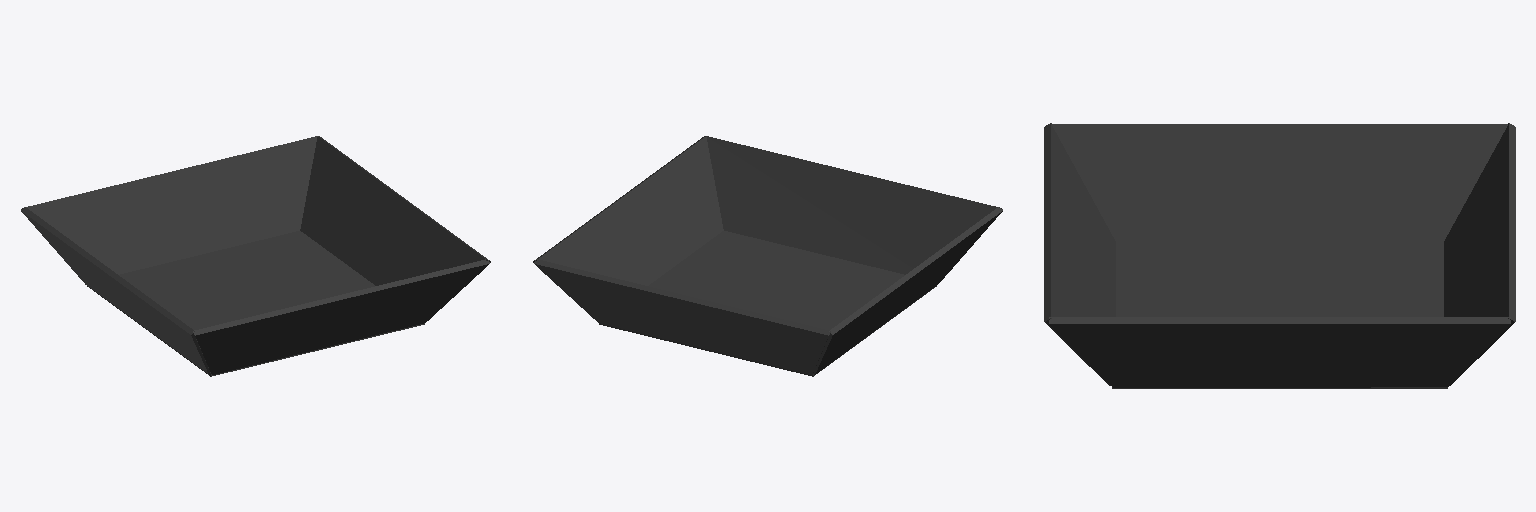
URDF robot description (tabletop):
<?xml version="0.0" ?>
<robot name="tabletop">
  <link name="base_link">
    <inertial>
      <origin rpy="0 0 0" xyz="0 0 0"/>
      <mass value="0"/>
      <inertia ixx="0" ixy="0" ixz="0" iyy="0" iyz="0" izz="0"/>
    </inertial>
    <visual>
      <origin rpy="0 0 0" xyz="0 0 0"/>
      <geometry>
        <mesh filename="tray_textured.obj" scale="0.5 0.5 0.5"/>
      </geometry>
      <material name="tray_material">
        <color rgba="0.282352 0.282352 0.282352 1"/>
      </material>
    </visual>
     <collision>
      <origin rpy="0 0 0" xyz="0 0 0.005"/>
      <geometry>
	 			<box size=".6 .6 .02"/>
      </geometry>
    </collision>
     <collision>
      <origin rpy="0 0.575469961 0" xyz="0.25 0 0.059"/>
      <geometry>
	 			<box size=".02 .6 .15"/>
      </geometry>
    </collision>
		<collision>
      <origin rpy="0 -0.575469961 0" xyz="-0.25 0 0.059"/>
      <geometry>
	 			<box size=".02 .6 .15"/>
      </geometry>
    </collision>
    <collision>
      <origin rpy="0.575469961 0 0" xyz="0 -0.25 0.059"/>
      <geometry>
	 			<box size=".6 .02 .15"/>
      </geometry>
    </collision>
    <collision>
      <origin rpy="-0.575469961 0 0" xyz="0 0.25 0.059"/>
      <geometry>
	 			<box size=".6 .02 .15"/>
      </geometry>
    </collision>

  </link>
</robot>

--- Facts derived from the render (not from the file) ---
The picture shows the robot from 3 angles, left to right: view 1: azimuth 30°, elevation 25°; view 2: azimuth 150°, elevation 25°; view 3: azimuth 270°, elevation 25°; orthographic projection.
Robot: tabletop — 1 links, 0 joints (none); root link base_link; default pose: all joints at 0.
Visible links, largest first — view 1: base_link; view 2: base_link; view 3: base_link.
Link boxes in pixels (x1=…): base_link: x1=21, y1=136, x2=490, y2=376; base_link: x1=533, y1=136, x2=1002, y2=376; base_link: x1=1044, y1=123, x2=1515, y2=388.
Bounding box of the posed robot: 0.5901 × 0.5901 × 0.1356 m (x, y, z).
Meshes: 1 distinct files referenced, 1 mesh visuals loaded (1 OBJ).